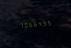five: (47, 18, 51, 26)
four: (37, 19, 41, 27)
nine: (42, 19, 46, 26)
seven: (17, 21, 21, 29)
six: (27, 20, 31, 28), (32, 20, 36, 27)
zero: (22, 21, 26, 28)
